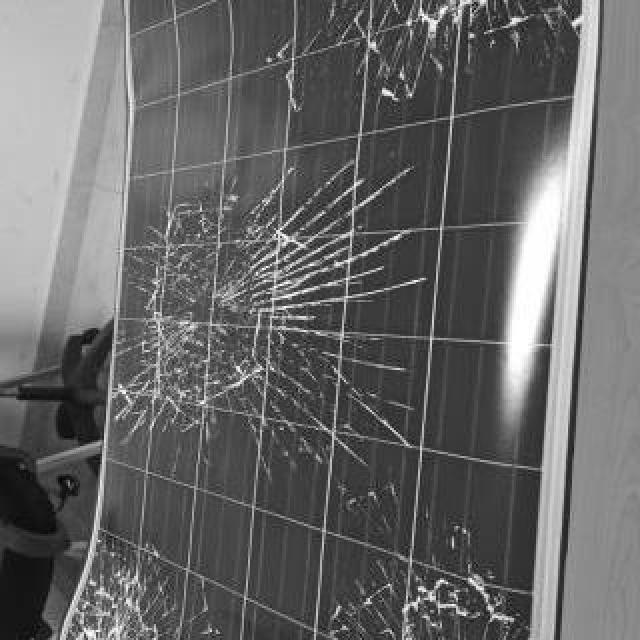Physical-damage: (106, 145, 447, 548), (256, 0, 589, 129), (308, 510, 531, 640), (63, 528, 237, 636)
